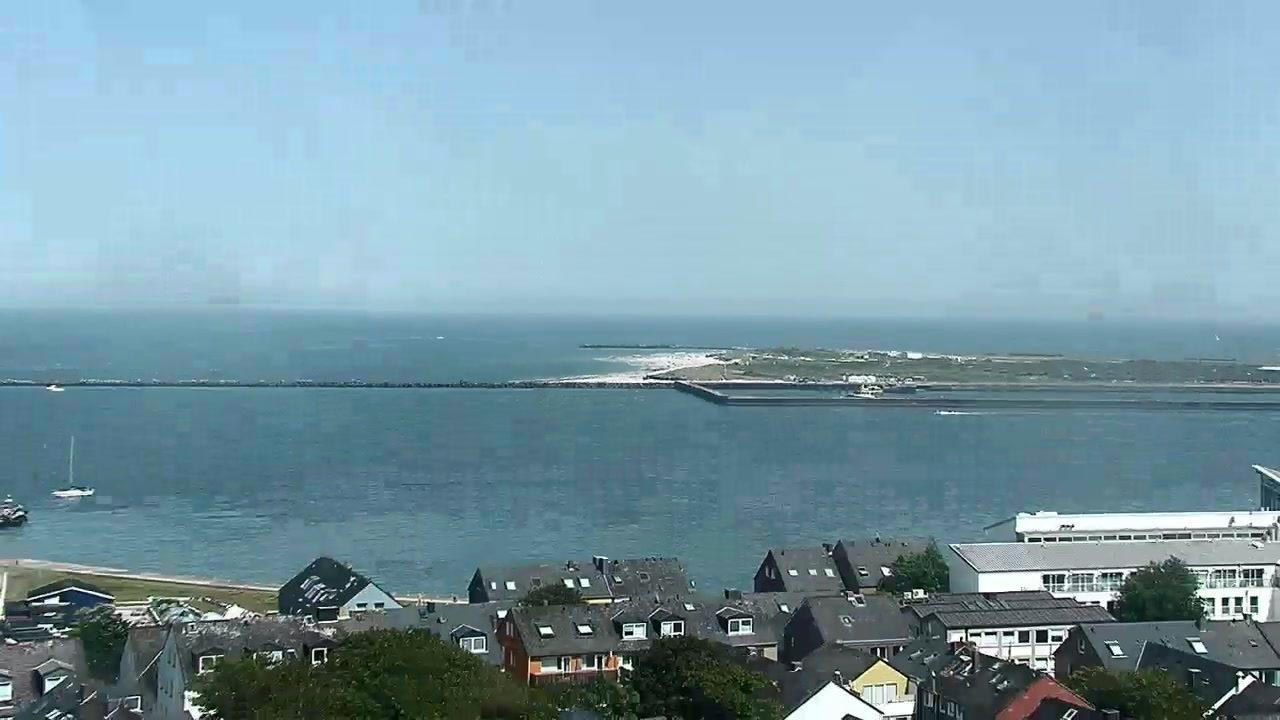sea: (50, 435, 96, 498), (1, 494, 28, 528), (847, 383, 884, 399), (45, 382, 66, 392)
